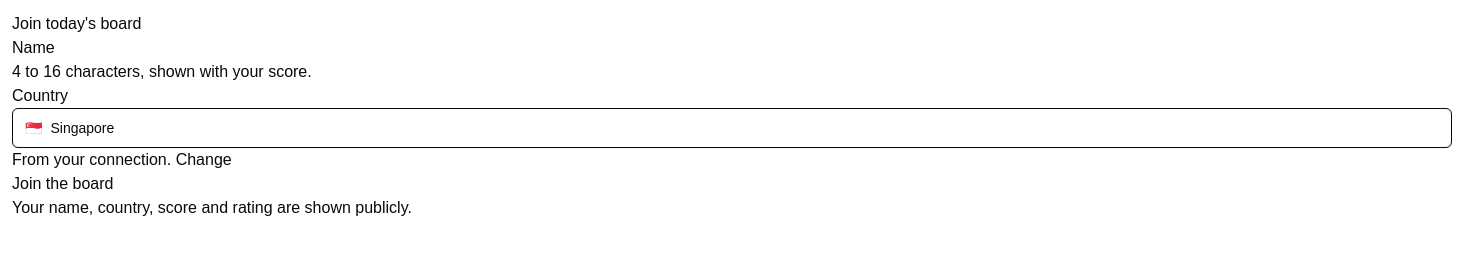
it: the join form's name and country descriptions › marks a three-letter name invalid once the player leaves the field and says why, and a four-letter one valid
The image size is (1464, 257).
Expected: the text "From your connection." is shown, [12,151,171,168]
Type " abc " into the field labelled "Name" at [158, 48], box [55,36,262,60]
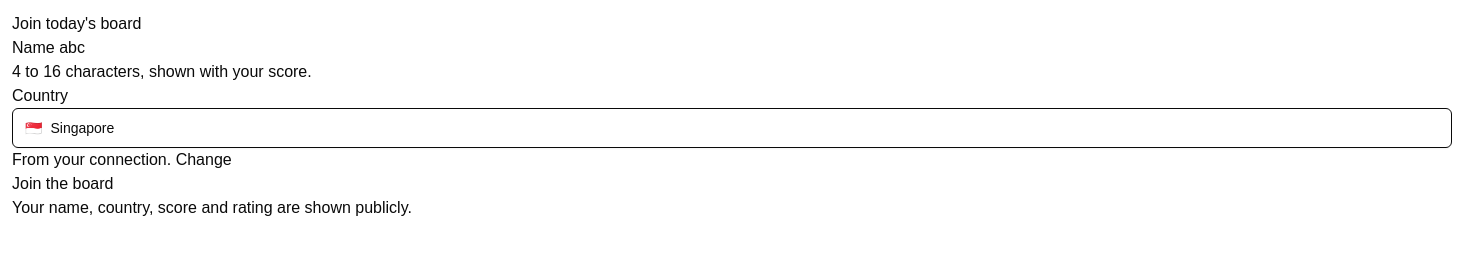
Leave the field labelled "Name", box [55,36,262,60]
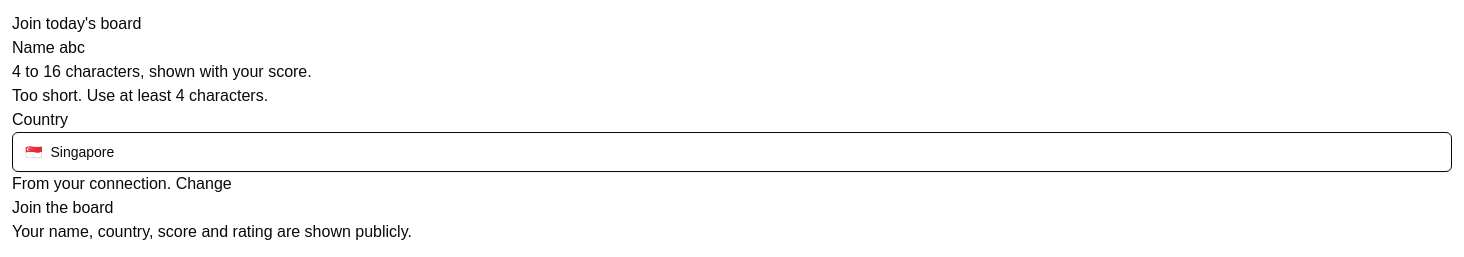
Replace the text in the field labelled "Name" with "abcd" at [158, 48], box [55,36,262,60]
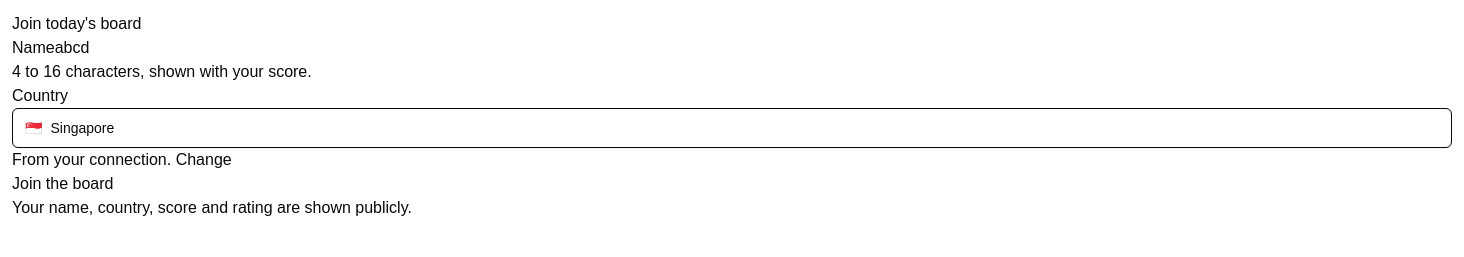
Result: the text "Too short. Use at least 4 characters." is gone
